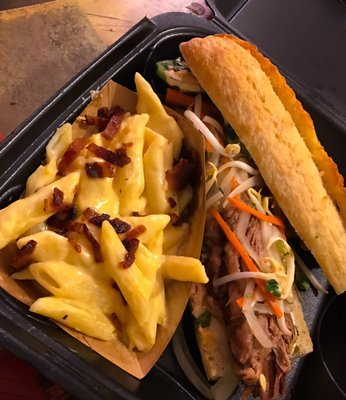soup: (177, 32, 346, 327)
